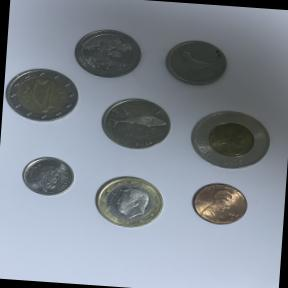1 Euro-B: (86, 168, 172, 234)
2 Euro-B: (1, 62, 82, 126)
Canada-10cent-B: (18, 149, 80, 201)
Canada-2Dollar-B: (182, 99, 280, 178)
Croatia-2Kune-B: (95, 92, 177, 158)
US-1cent-B: (184, 177, 254, 232)
US-25cent-B: (70, 25, 148, 83)
